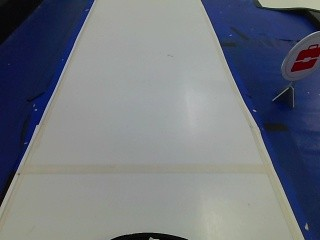company: (282, 32, 318, 81)
